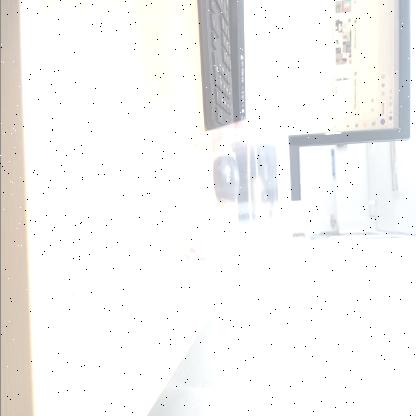Others: (126, 90, 292, 298)
